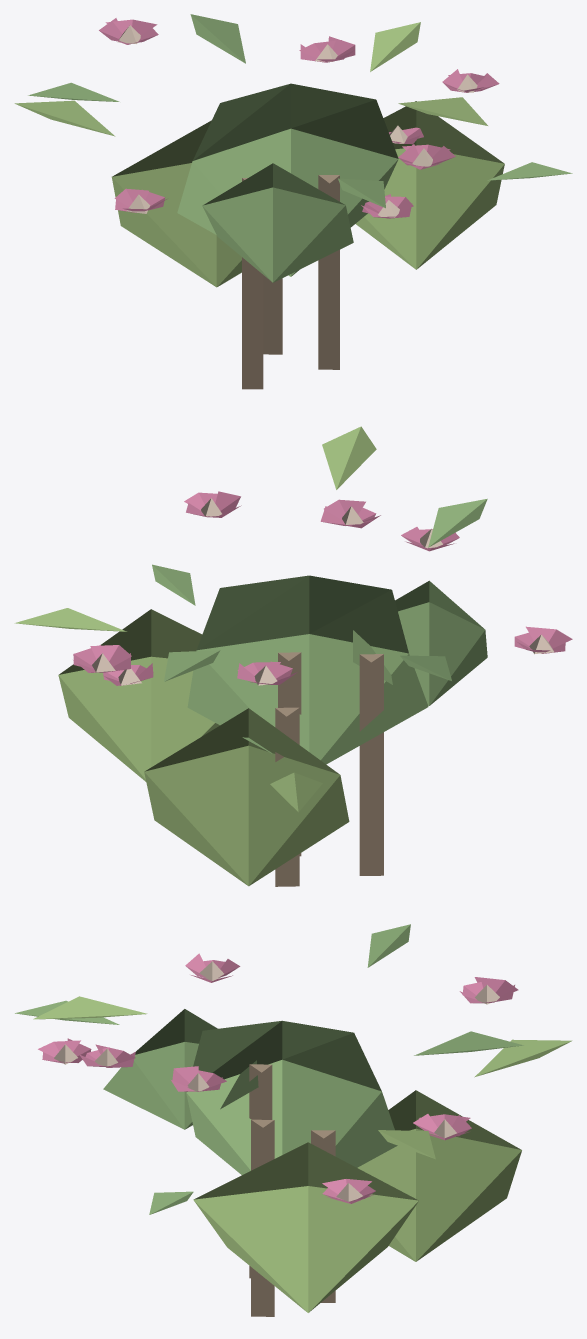
The model's file is guan.zhen@flowering__spring.glb.
The picture shows the model from 3 angles, top to bottom: view 1: azimuth 30°, elevation 25°; view 2: azimuth 150°, elevation 25°; view 3: azimuth 270°, elevation 25°; orthographic projection. The views are drawn at different scales.
Parts seen in each view (by area): view 1: guan.zhen@flowering__spring; view 2: guan.zhen@flowering__spring; view 3: guan.zhen@flowering__spring.
Part boxes in pixels (x1,y1,x2,y2): guan.zhen@flowering__spring: (14, 14, 572, 389); guan.zhen@flowering__spring: (14, 426, 572, 886); guan.zhen@flowering__spring: (15, 924, 572, 1316).
Bounding box in the file's own units: 2.73 × 1.93 × 2.98.
